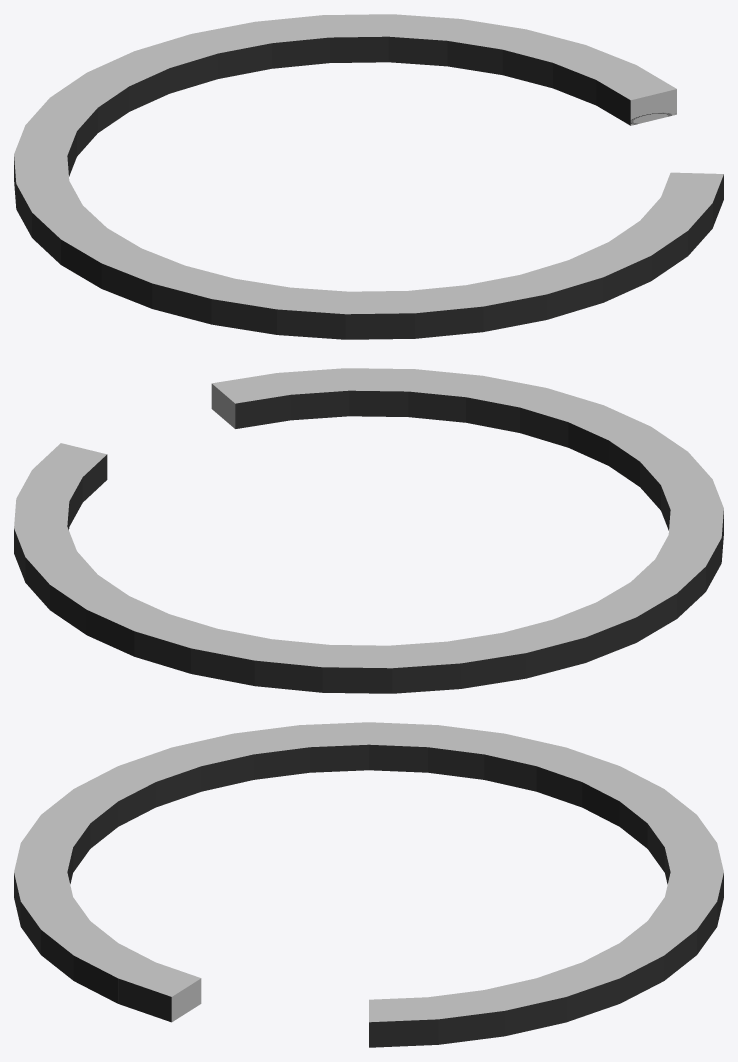
The model's file is 2donut_hole.fbx.
3 views of the same model, one above another, from view 1: azimuth 30°, elevation 25°; view 2: azimuth 150°, elevation 25°; view 3: azimuth 270°, elevation 25° (orthographic).
Parts seen in each view (by area): view 1: Cylinder; view 2: Cylinder; view 3: Cylinder.
Boxes of the visible parts, left/top/right/bottom form: Cylinder: left=14, top=14, right=723, bottom=339; Cylinder: left=14, top=368, right=723, bottom=693; Cylinder: left=14, top=722, right=723, bottom=1047.
Bounding box in the file's own units: 6400 × 254 × 6400.
1 material, 1 textured.
